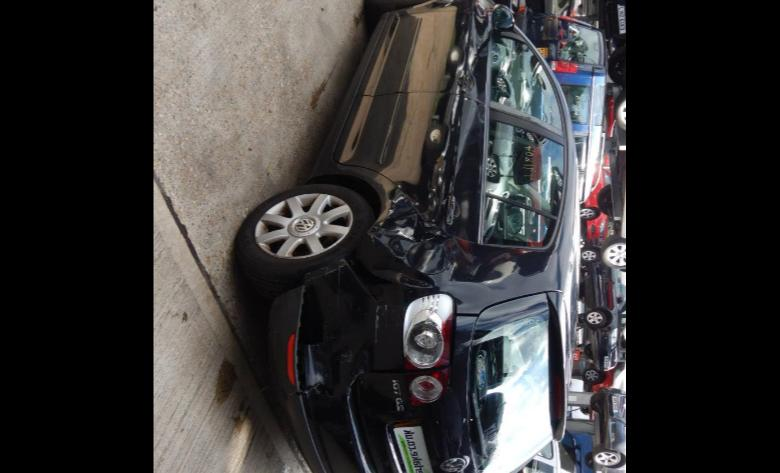Broken part: (338, 250, 386, 306), (294, 274, 308, 400)
Dent: (352, 178, 518, 292), (298, 342, 374, 406)
Flaking: (336, 348, 352, 364)
Paint chip: (338, 258, 366, 290), (308, 264, 346, 280), (394, 226, 414, 239), (390, 196, 406, 204), (386, 210, 394, 218), (378, 220, 386, 226)
Scratch: (282, 376, 350, 398), (376, 304, 380, 342), (338, 266, 342, 304), (384, 304, 388, 326)
